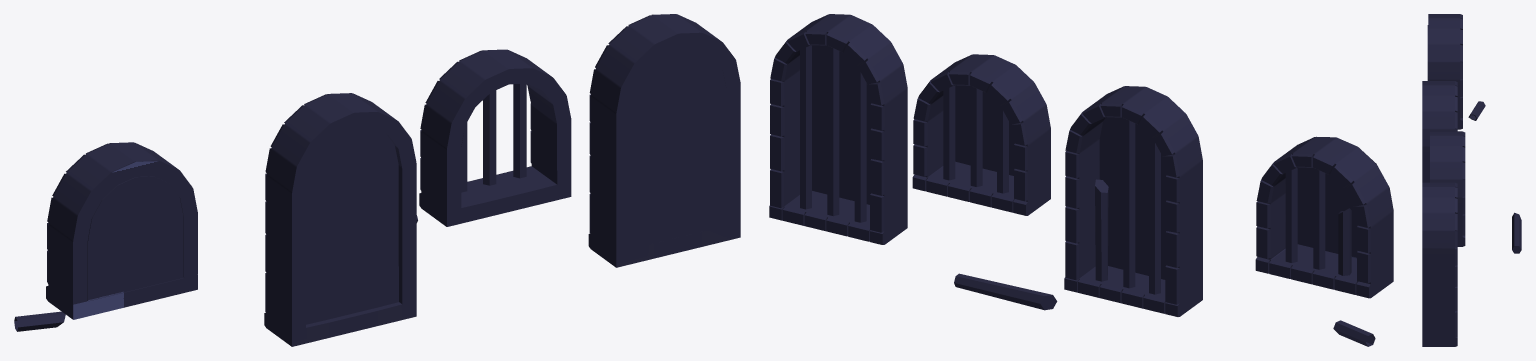
Rendered from fenetres_set_03.fbx.
3 renders of one model, left to right at view 1: azimuth 30°, elevation 25°; view 2: azimuth 150°, elevation 25°; view 3: azimuth 270°, elevation 25°, orthographic. The views are drawn at different scales.
Parts seen in each view (by area): view 1: polySurface25, polySurface18, polySurface34, polySurface24; view 2: polySurface25, polySurface18, polySurface34, polySurface24; view 3: polySurface18, polySurface34, polySurface25, polySurface24.
Part boxes in pixels (x1,y1,x2,y2): polySurface25: (264, 93, 417, 346); polySurface18: (588, 14, 740, 267); polySurface34: (14, 142, 197, 331); polySurface24: (419, 49, 571, 226); polySurface25: (954, 86, 1202, 316); polySurface18: (769, 14, 907, 244); polySurface34: (1255, 136, 1393, 346); polySurface24: (912, 54, 1050, 215); polySurface18: (1422, 182, 1457, 346); polySurface34: (1427, 14, 1485, 129); polySurface25: (1422, 81, 1521, 253); polySurface24: (1430, 131, 1465, 246).
Size of the model in its own units: 11.13 by 3.42 by 2.2.
Materials: 1 (1 with a texture image).
